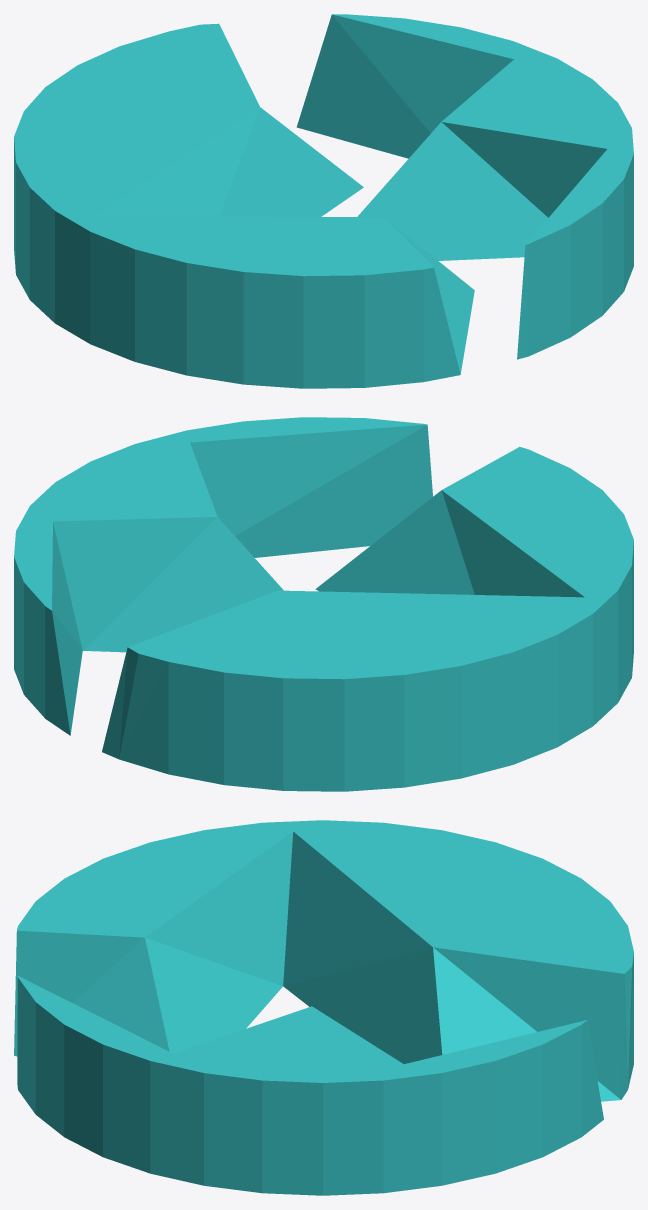
The model's file is fissure.dae.
3 views of the same model, one above another, from view 1: azimuth 30°, elevation 25°; view 2: azimuth 150°, elevation 25°; view 3: azimuth 270°, elevation 25° (orthographic).
Visible parts, largest first — view 1: Cylinder; view 2: Cylinder; view 3: Cylinder.
Boxes of the visible parts, left/top/right/bottom form: Cylinder: left=14, top=14, right=633, bottom=388; Cylinder: left=14, top=417, right=633, bottom=791; Cylinder: left=14, top=820, right=633, bottom=1195.
Size of the model in its own units: 1000 by 997 by 200.
